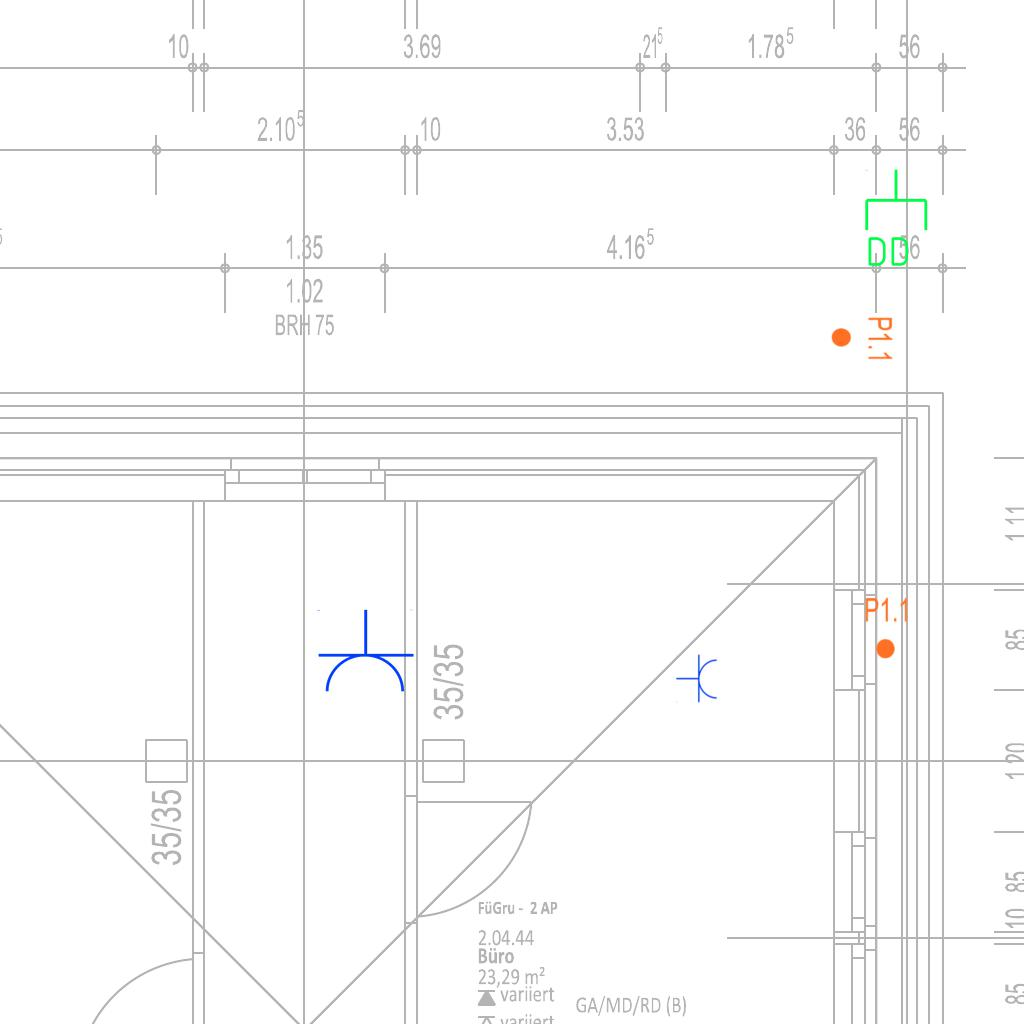Datenanschluss_zweifach: (861, 167, 930, 270)
Downlight_LED_Einbauleuchten_Flur: (864, 596, 910, 660), (830, 316, 894, 362)
Schukosteckdose_einfach: (315, 609, 415, 696), (676, 654, 719, 704)
